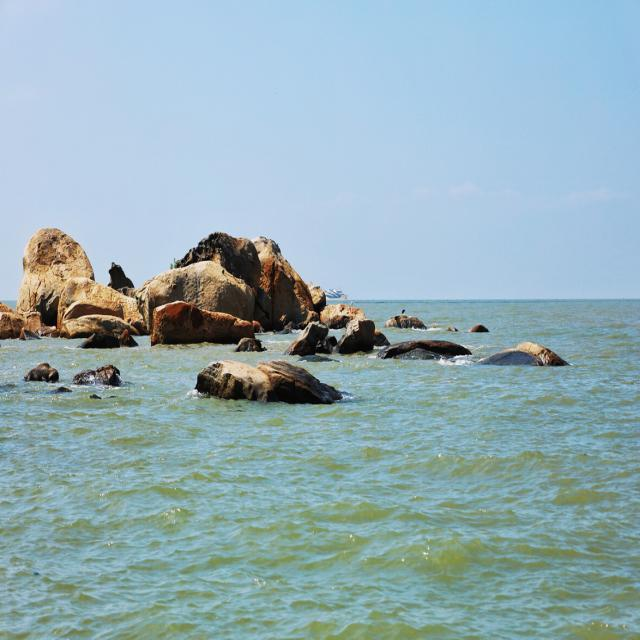reef: (6, 208, 325, 347)
